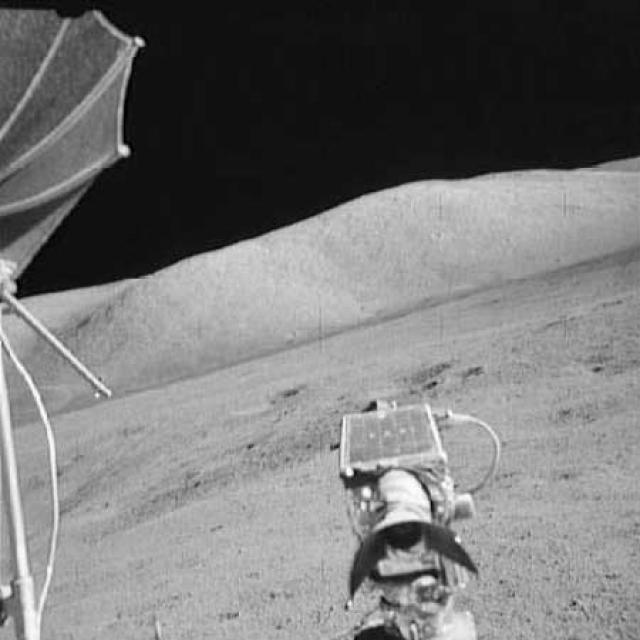artifact: (0, 3, 144, 638), (324, 388, 515, 639)
crater: (373, 356, 463, 383)
